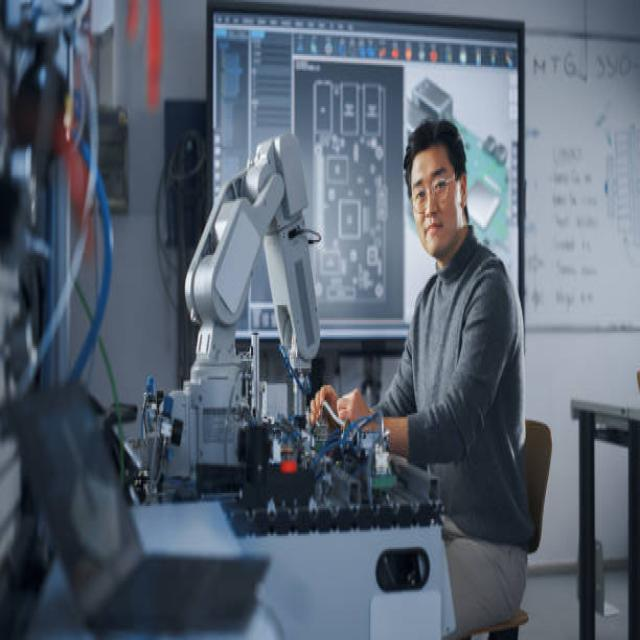Robotic-arm: (173, 125, 326, 455)
